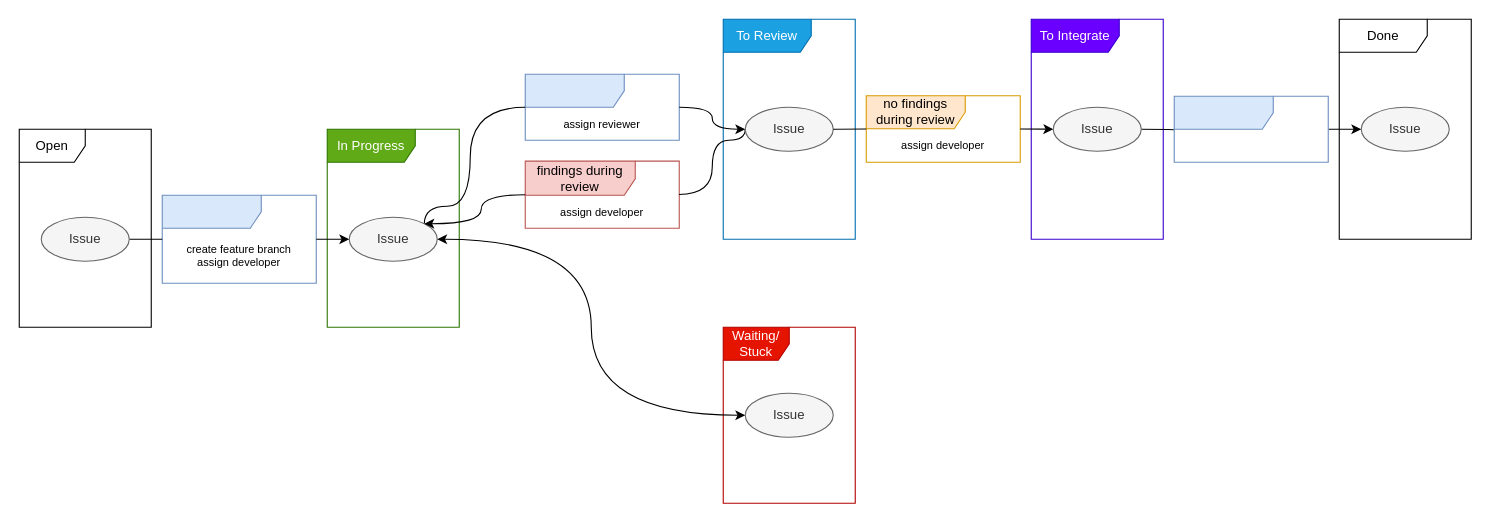
Some shapes in this 1491 by 523 pixel diagram are drawn without their labels. Here are the shapes that lost their labels. From the top down, the box of each, then its label:
(524, 73, 679, 140): development finished
(1173, 95, 1328, 162): fb merged into develop
(161, 194, 316, 283): starting development
